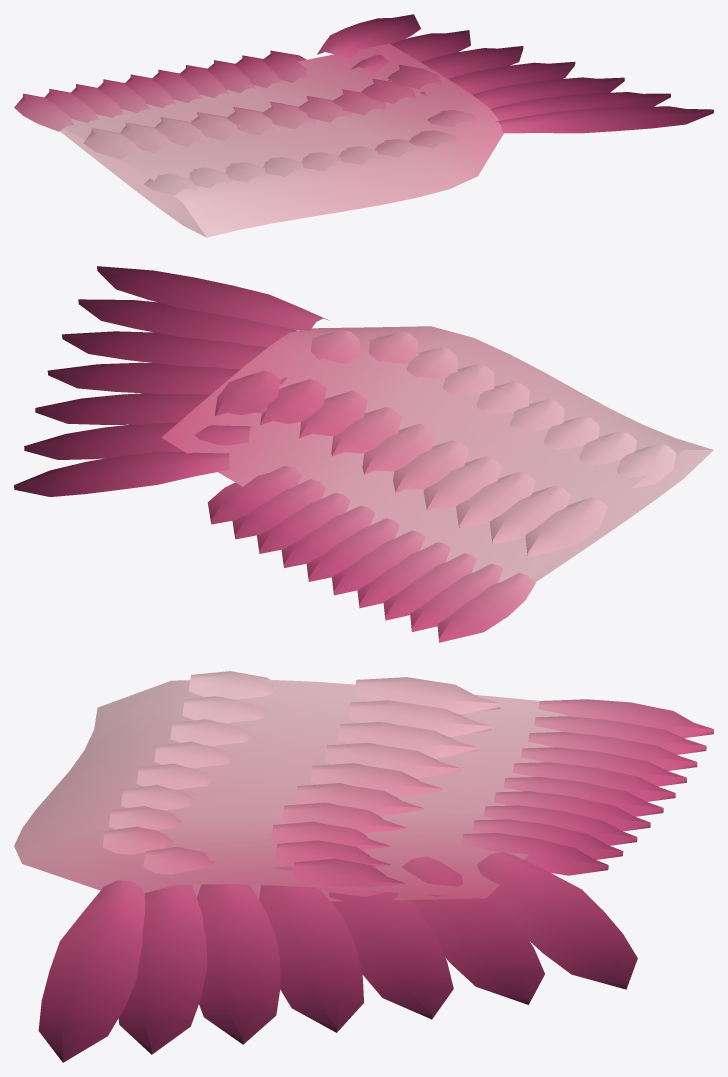
File: sky_hawk2_wing_r.glb
3 renders of one model, top to bottom at view 1: azimuth 30°, elevation 25°; view 2: azimuth 150°, elevation 25°; view 3: azimuth 270°, elevation 25°, orthographic. The views are drawn at different scales.
Visible parts, largest first — view 1: hawk2_wing_r; view 2: hawk2_wing_r; view 3: hawk2_wing_r.
Boxes of the visible parts, bbox=[...] form: hawk2_wing_r: bbox=[14, 14, 713, 237]; hawk2_wing_r: bbox=[14, 266, 713, 642]; hawk2_wing_r: bbox=[14, 671, 713, 1062].
Size of the model in its own units: 3.37 by 0.3034 by 2.61.
1 material, 1 textured.
